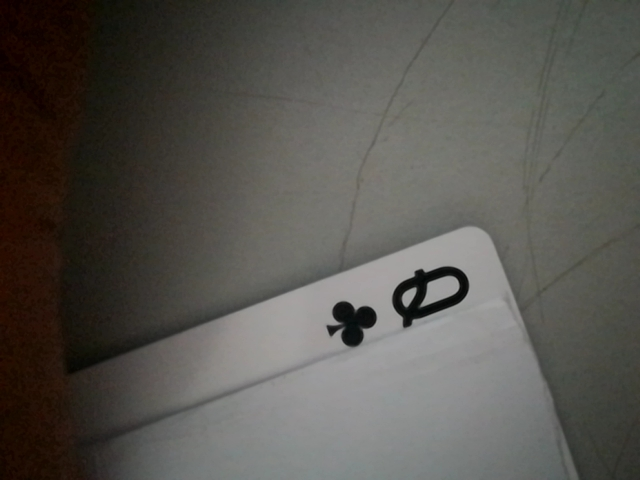mh q: (306, 257, 487, 356)
